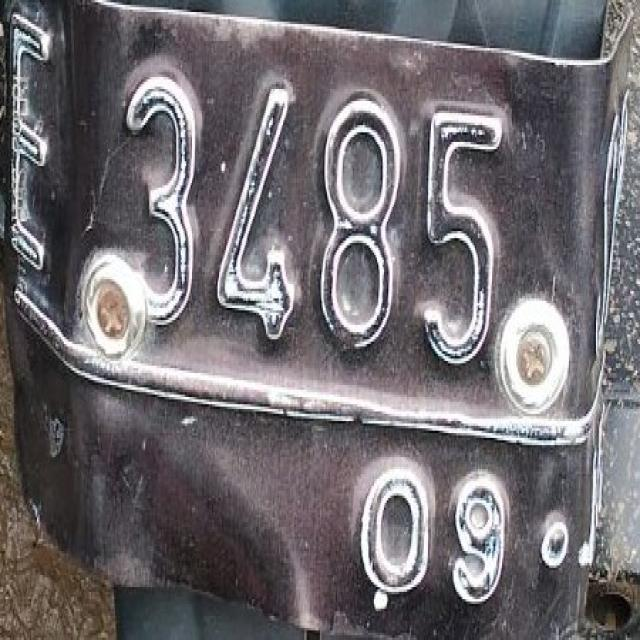plate: (1, 0, 630, 638)
